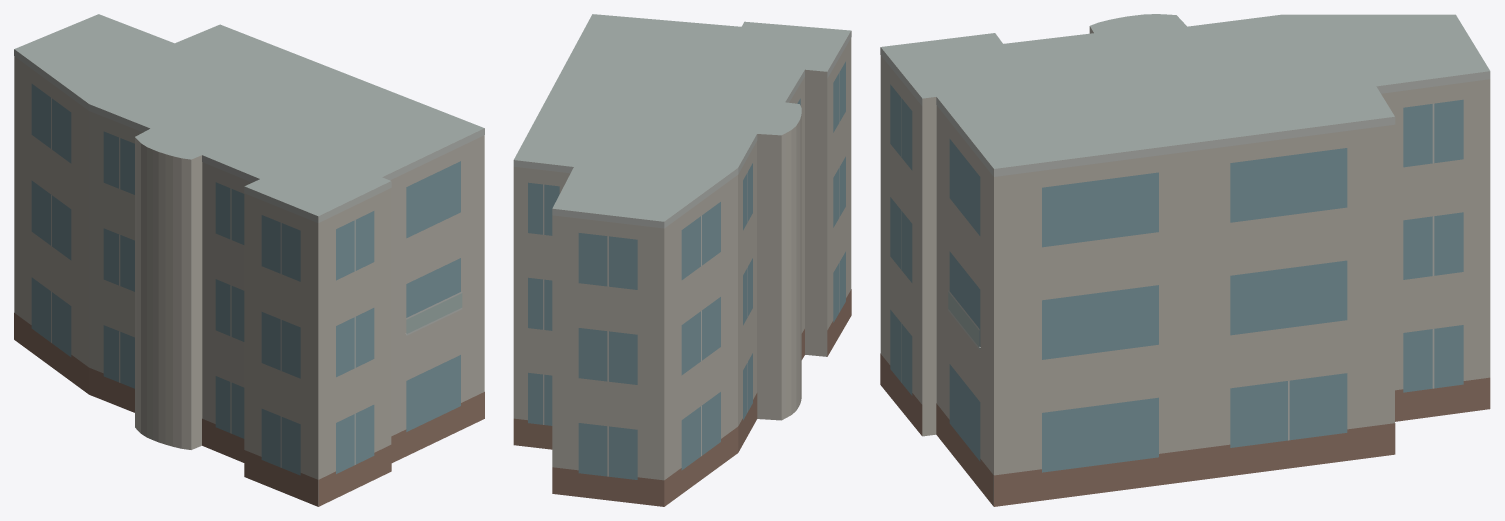
File: survey-upis-32758666.glb
The picture shows the model from 3 angles, left to right: view 1: azimuth 30°, elevation 25°; view 2: azimuth 150°, elevation 25°; view 3: azimuth 270°, elevation 25°; orthographic projection. The views are drawn at different scales.
Parts seen in each view (by area): view 1: survey-upis-32758666.tmp; view 2: survey-upis-32758666.tmp; view 3: survey-upis-32758666.tmp.
Boxes of the visible parts, x1,y1,x2,y2 form: survey-upis-32758666.tmp: (14,14,484,506); survey-upis-32758666.tmp: (513,14,851,506); survey-upis-32758666.tmp: (880,14,1490,506).
Size of the model in its own units: 10.14 by 10.3 by 16.86.
